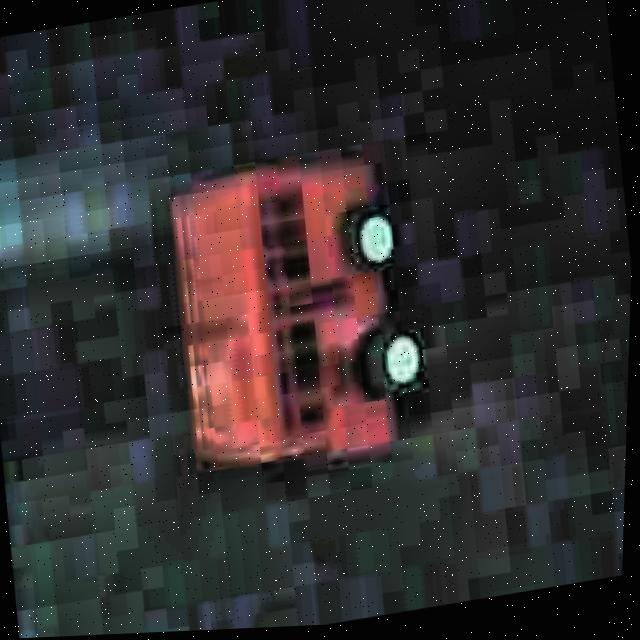bus: (147, 141, 443, 491)
